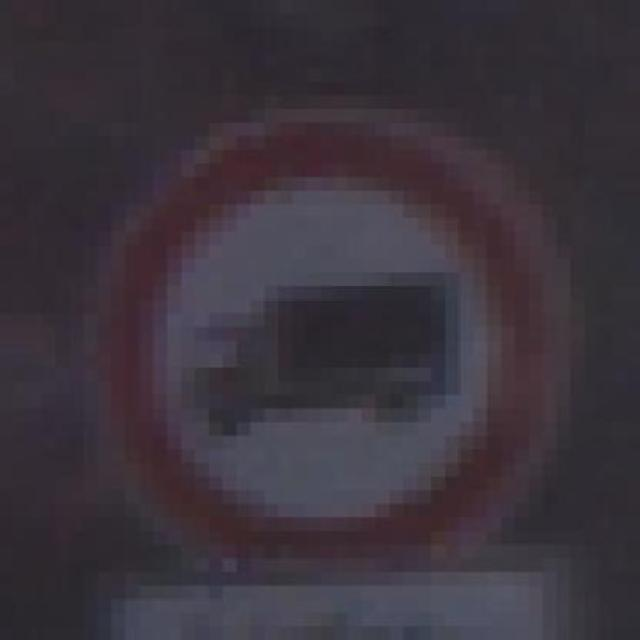Truck traffic is prohibited: (40, 93, 582, 584)
